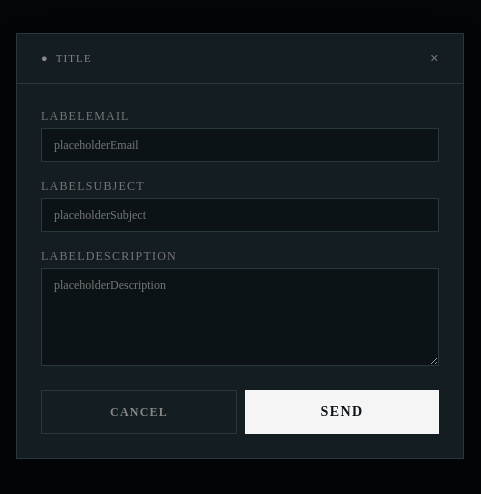
ContactFormModal › shows the right error after a generic server error
In the field with placeholder "placeholderEmail": x=240, y=145 [41,128,439,162], type "learner@example.com"
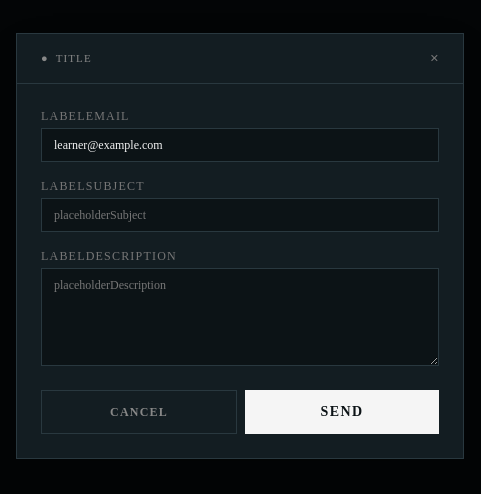
In the field with placeholder "placeholderSubject": x=240, y=215 [41,198,439,232], type "Question"
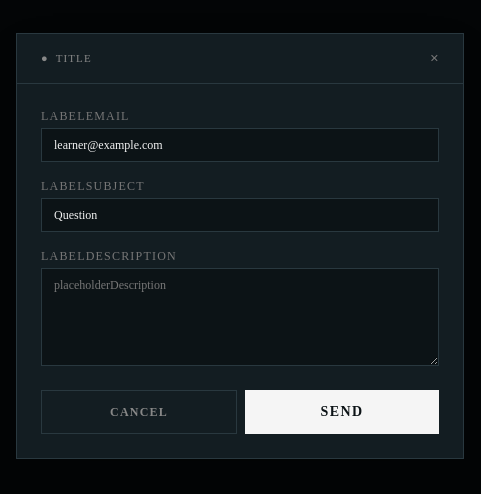
In the text box with placeholder "placeholderDescription": x=240, y=317 [41,268,439,366], type "Please help me."
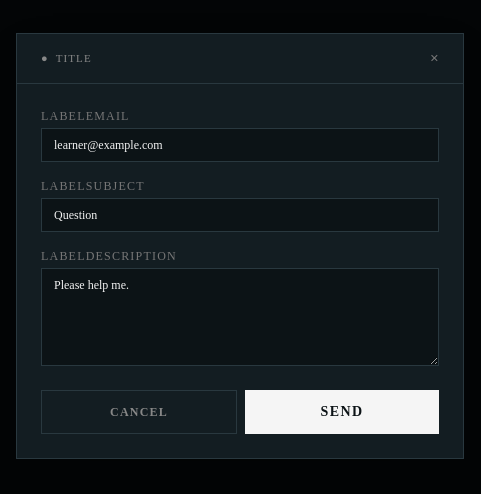
Click the button "send": x=342, y=412 [245,390,439,434]
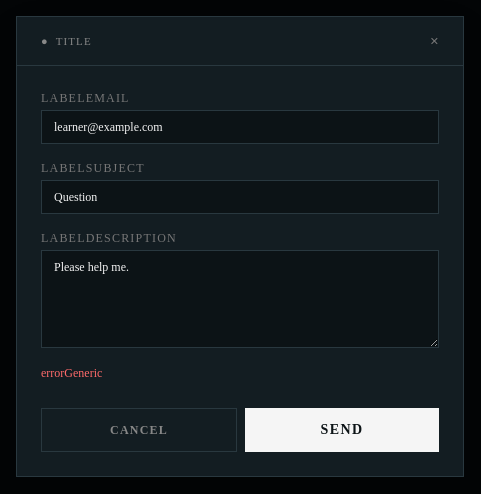
Expected: the button "send" is enabled, [245,408,439,452]
Result: the text "errorGeneric" is shown at [41,366,102,380]
